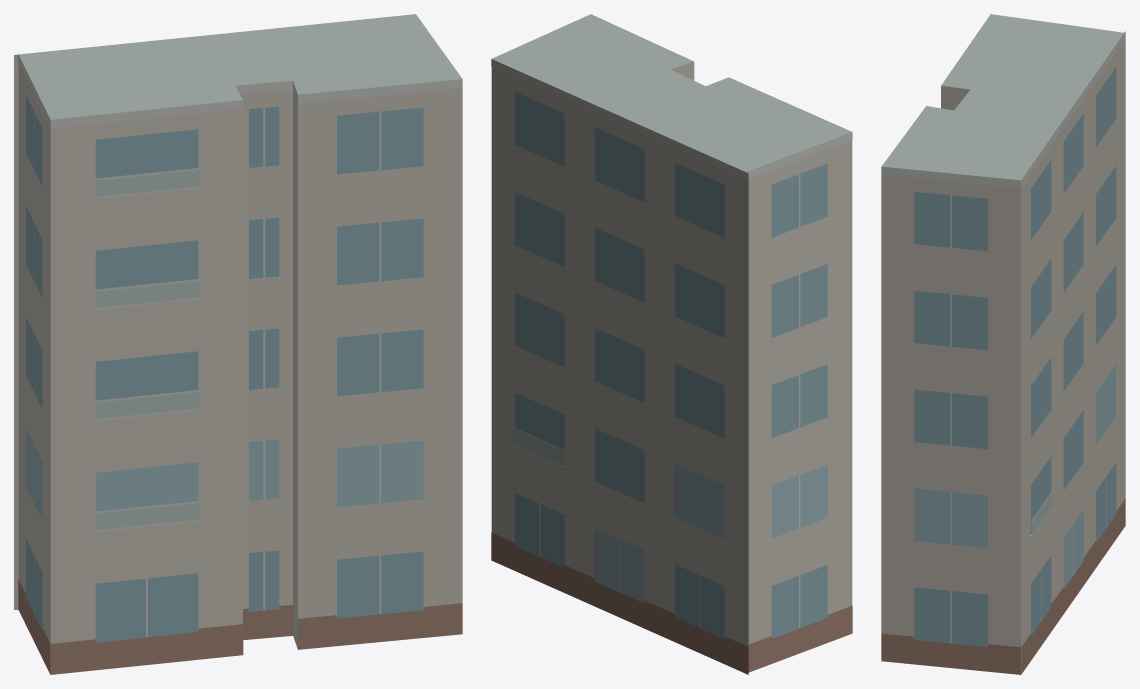
The model's file is survey-upis-32753299.glb.
3 views of the same model, side by side, from view 1: azimuth 30°, elevation 25°; view 2: azimuth 150°, elevation 25°; view 3: azimuth 270°, elevation 25° (orthographic). The views are drawn at different scales.
Visible parts, largest first — view 1: survey-upis-32753299.tmp; view 2: survey-upis-32753299.tmp; view 3: survey-upis-32753299.tmp.
Part boxes in pixels (<box>): survey-upis-32753299.tmp: <box>14,14,462,674</box>; survey-upis-32753299.tmp: <box>491,14,852,674</box>; survey-upis-32753299.tmp: <box>881,14,1125,674</box>.
Bounding box in the file's own units: 11.12 × 15.41 × 6.91.
